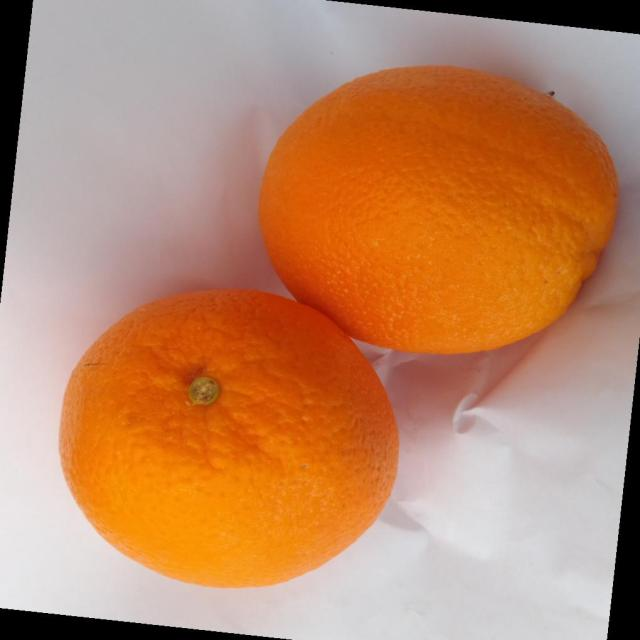fresh orange: (257, 63, 620, 356), (58, 286, 400, 589)
